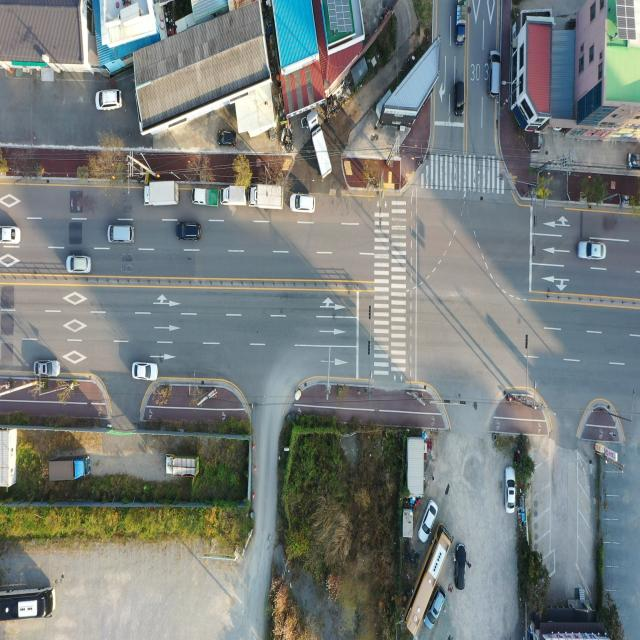car: (419, 499, 440, 543), (425, 584, 446, 628), (107, 221, 136, 249), (454, 540, 468, 592), (96, 90, 123, 112), (490, 51, 502, 98), (578, 242, 606, 261), (217, 126, 238, 149), (177, 220, 201, 240), (292, 192, 316, 212), (67, 254, 92, 273), (133, 361, 158, 380), (505, 468, 515, 514), (34, 359, 59, 377), (0, 227, 21, 246), (454, 82, 464, 115)
large_bus: (405, 526, 453, 634), (0, 586, 56, 627)
medium_truck: (305, 108, 335, 182), (46, 449, 92, 486), (249, 184, 284, 214), (145, 179, 181, 207)
small_truck: (164, 452, 201, 480), (455, 0, 469, 48), (220, 185, 248, 208), (191, 185, 217, 208)
